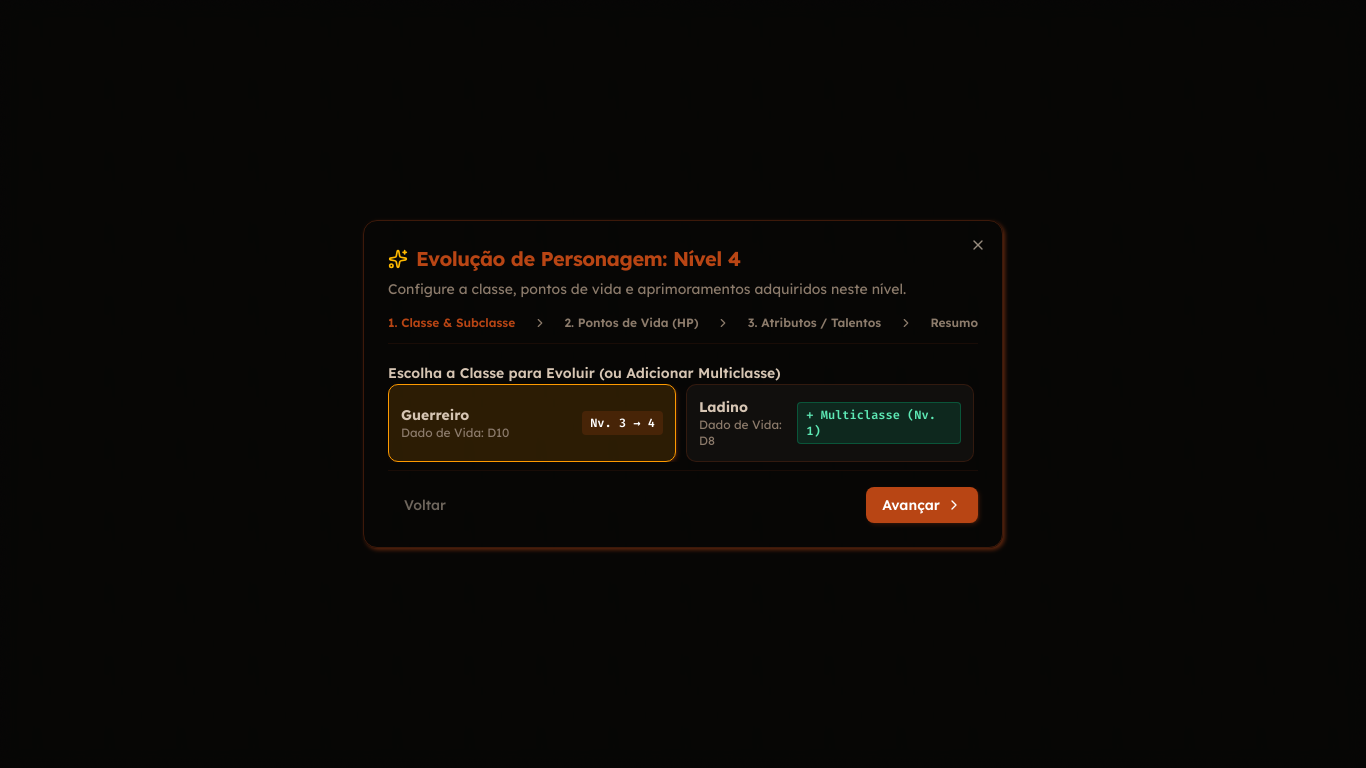
Test: XP Progress Bar & Level Up Wizard Modal logic › renders rich feat selector with search, category filter, and card selection
Later steps or results of the test are not shown.
Click the button "Avançar" at (922, 505), box [866,487,978,523]
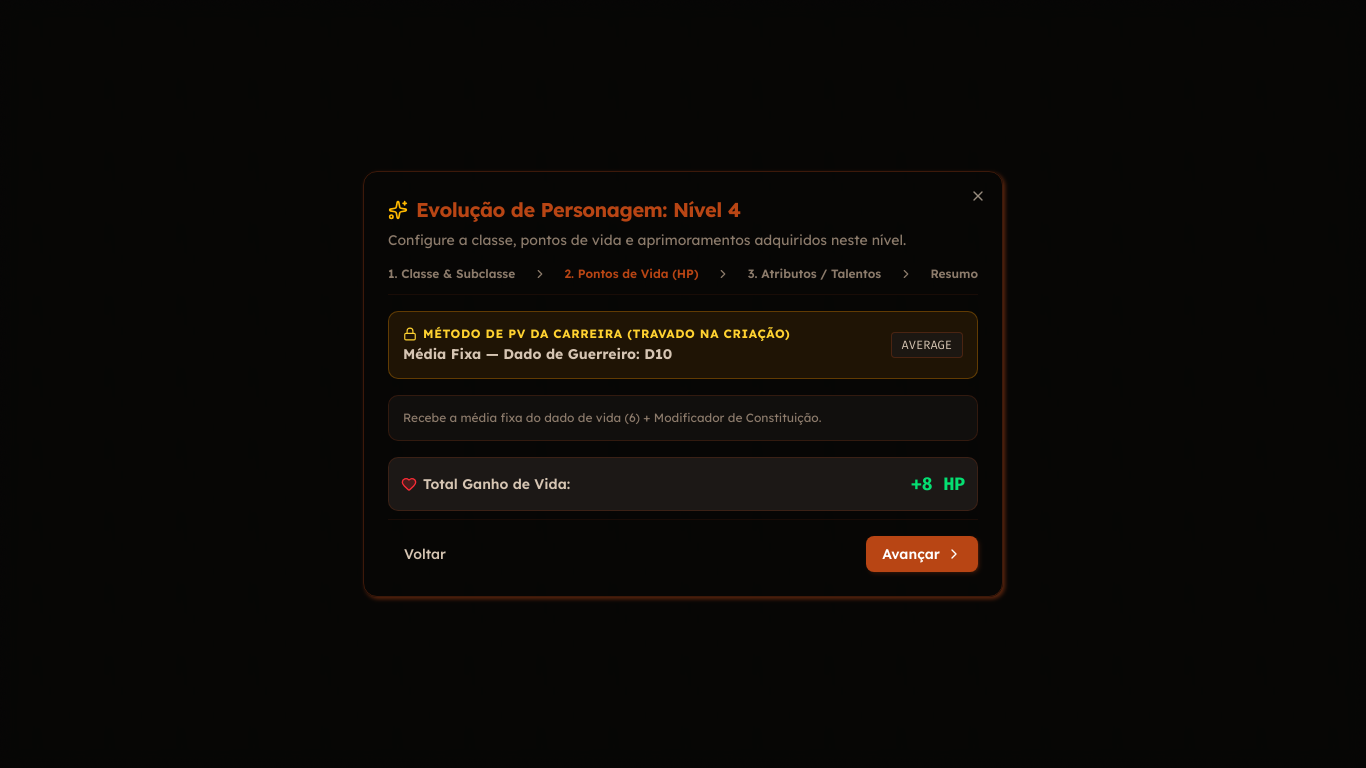
Click the button "Avançar" at (922, 554), box [866,536,978,572]
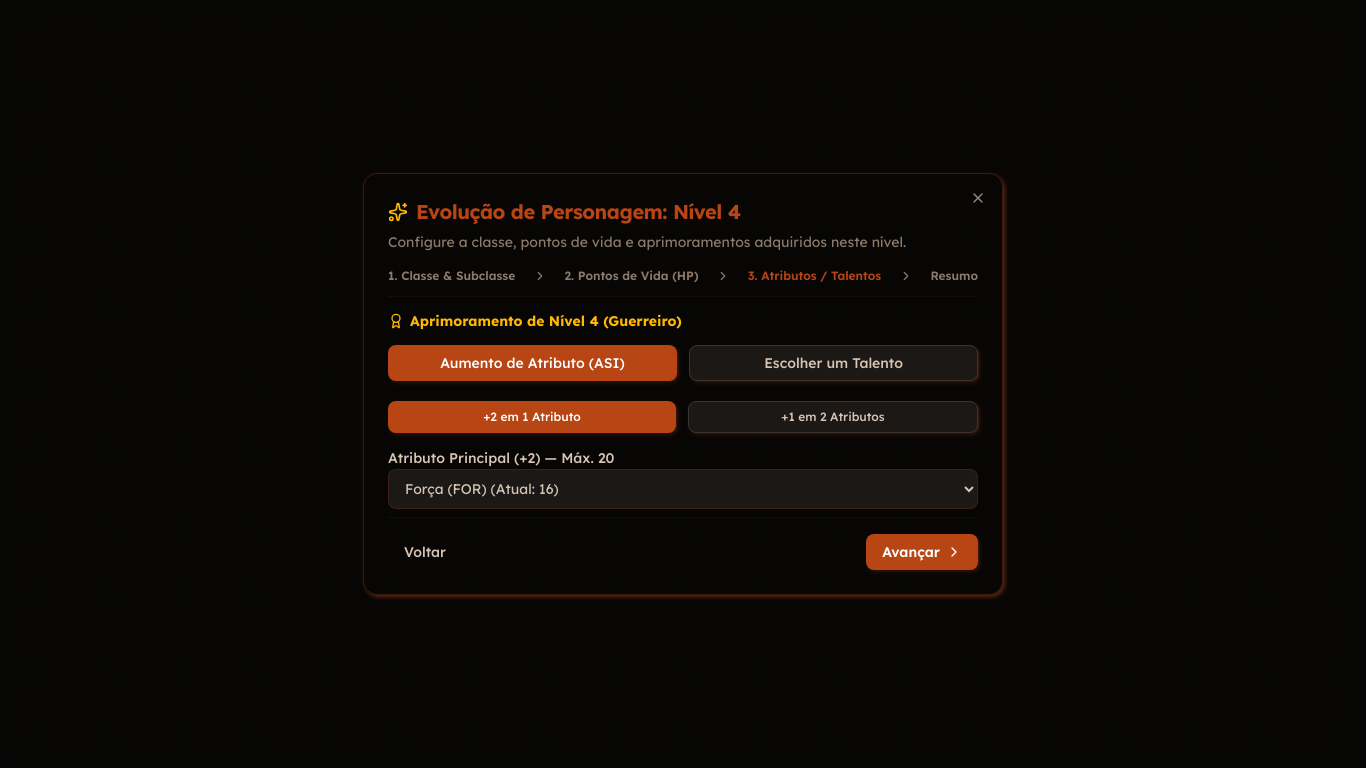
Click the button with test id "choice-feat-button" at (834, 363), box [689,345,978,381]
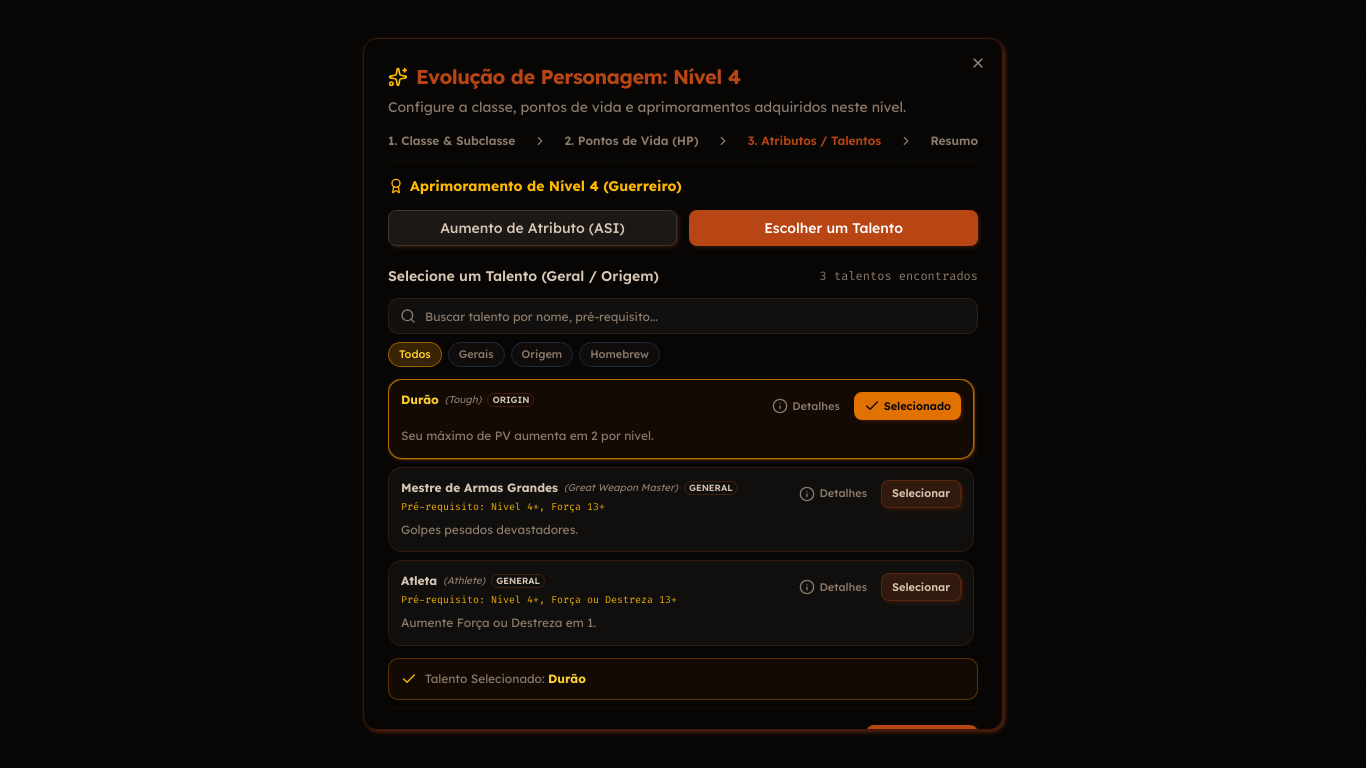
expect the field with placeholder "Buscar talento por nome, pré-requisito..." is shown: met, box [388,298,978,334]
expect the element with test id "feat-card-feat-gwm" is shown: met
expect the text "Mestre de Armas Grandes" is shown: met, box [401,480,558,496]
Click the element with test id "feat-card-feat-gwm" at (681, 509), box [388,467,974,552]
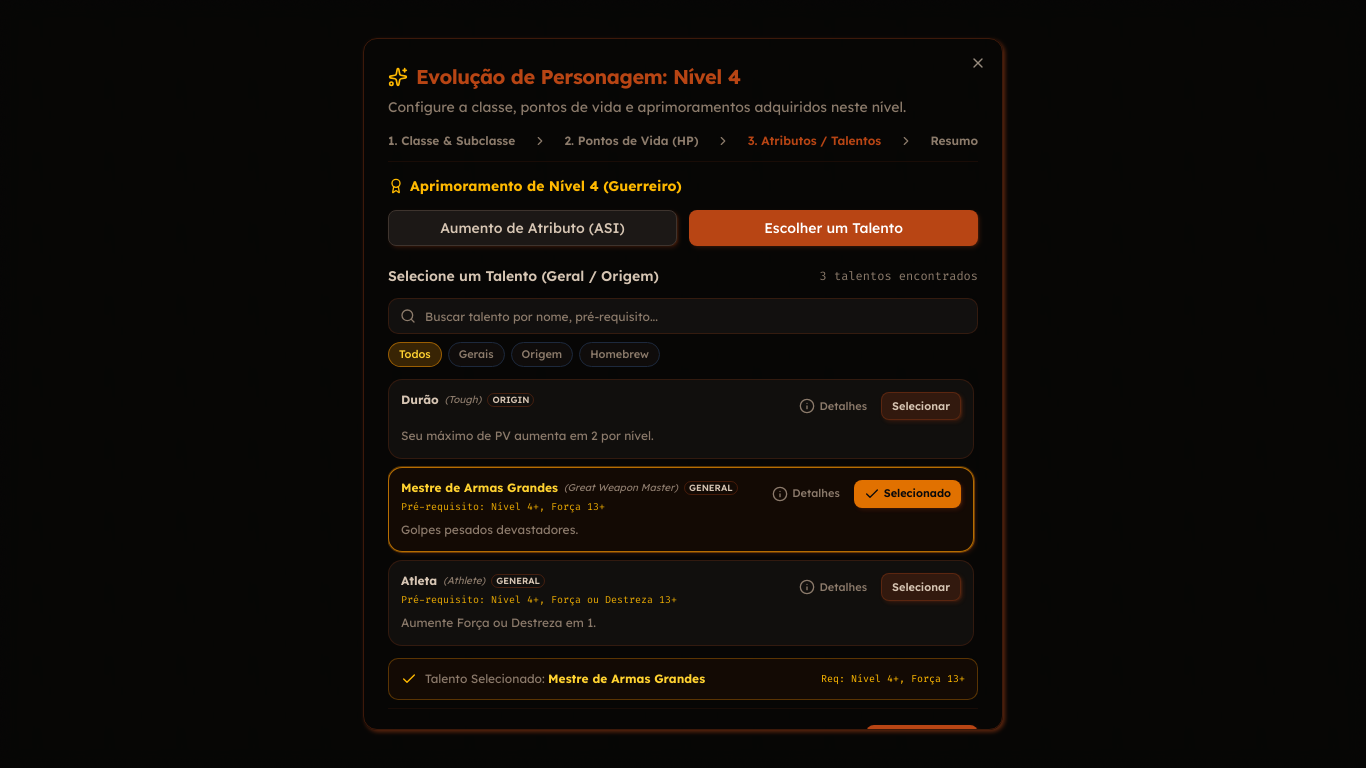
expect the text "Talento Selecionado:" is shown: met, box [425,671,548,686]
